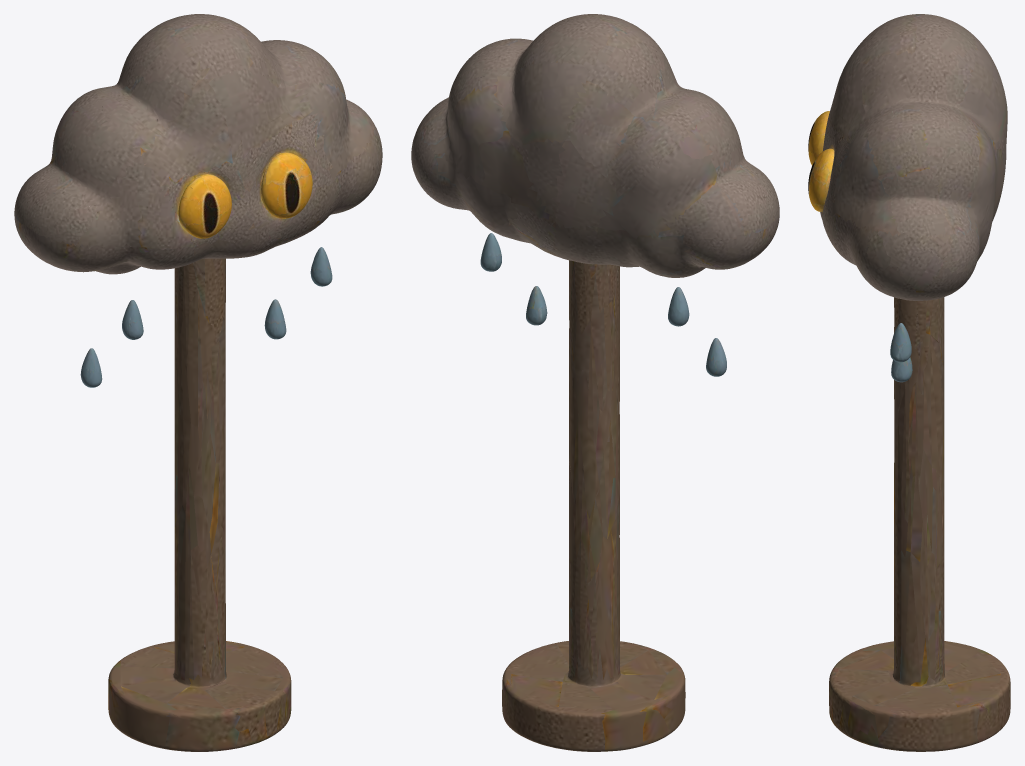
File: busstop_rain_cloud.glb
The picture shows the model from 3 angles, left to right: view 1: azimuth 30°, elevation 25°; view 2: azimuth 150°, elevation 25°; view 3: azimuth 270°, elevation 25°; orthographic projection.
Visible parts, largest first — view 1: Mesh_0; view 2: Mesh_0; view 3: Mesh_0.
Part boxes in pixels (x1,y1,x2,y2): Mesh_0: (14,14,382,751); Mesh_0: (411,14,779,751); Mesh_0: (808,14,1010,751).
Size of the model in its own units: 1 by 1.9 by 0.5034.
Materials: 1 (1 with a texture image).
